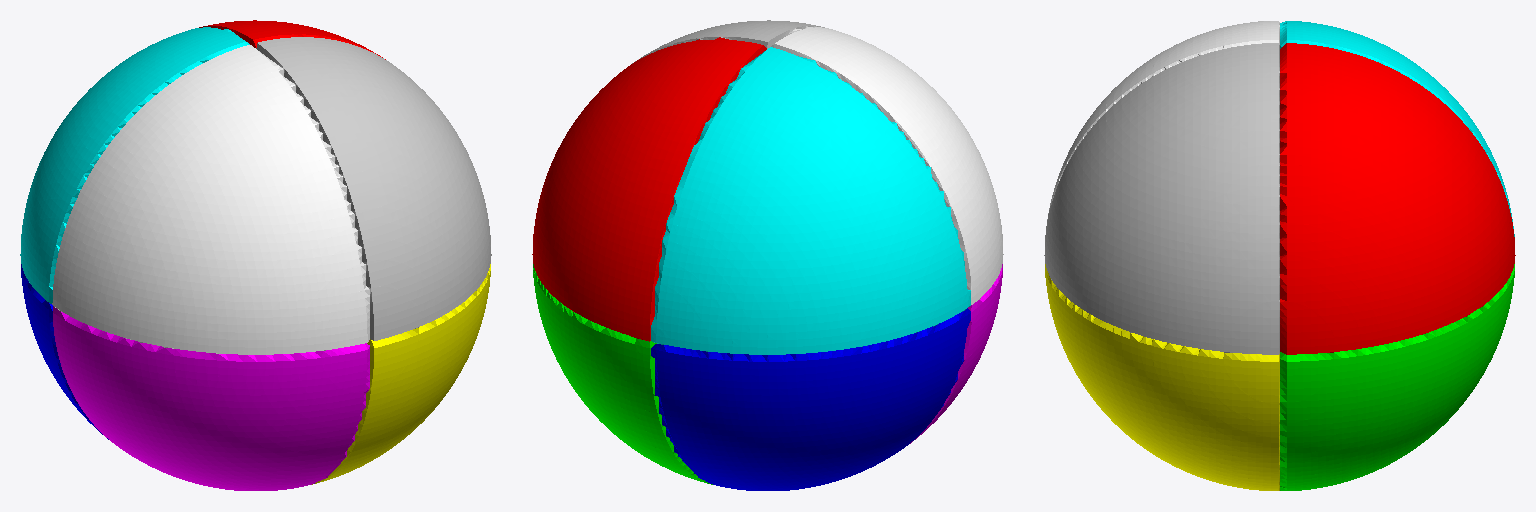
The model's file is demo_clss.obj.
3 views of the same model, side by side, from view 1: azimuth 30°, elevation 25°; view 2: azimuth 150°, elevation 25°; view 3: azimuth 270°, elevation 25° (orthographic).
Size of the model in its own units: 6 by 6 by 6.